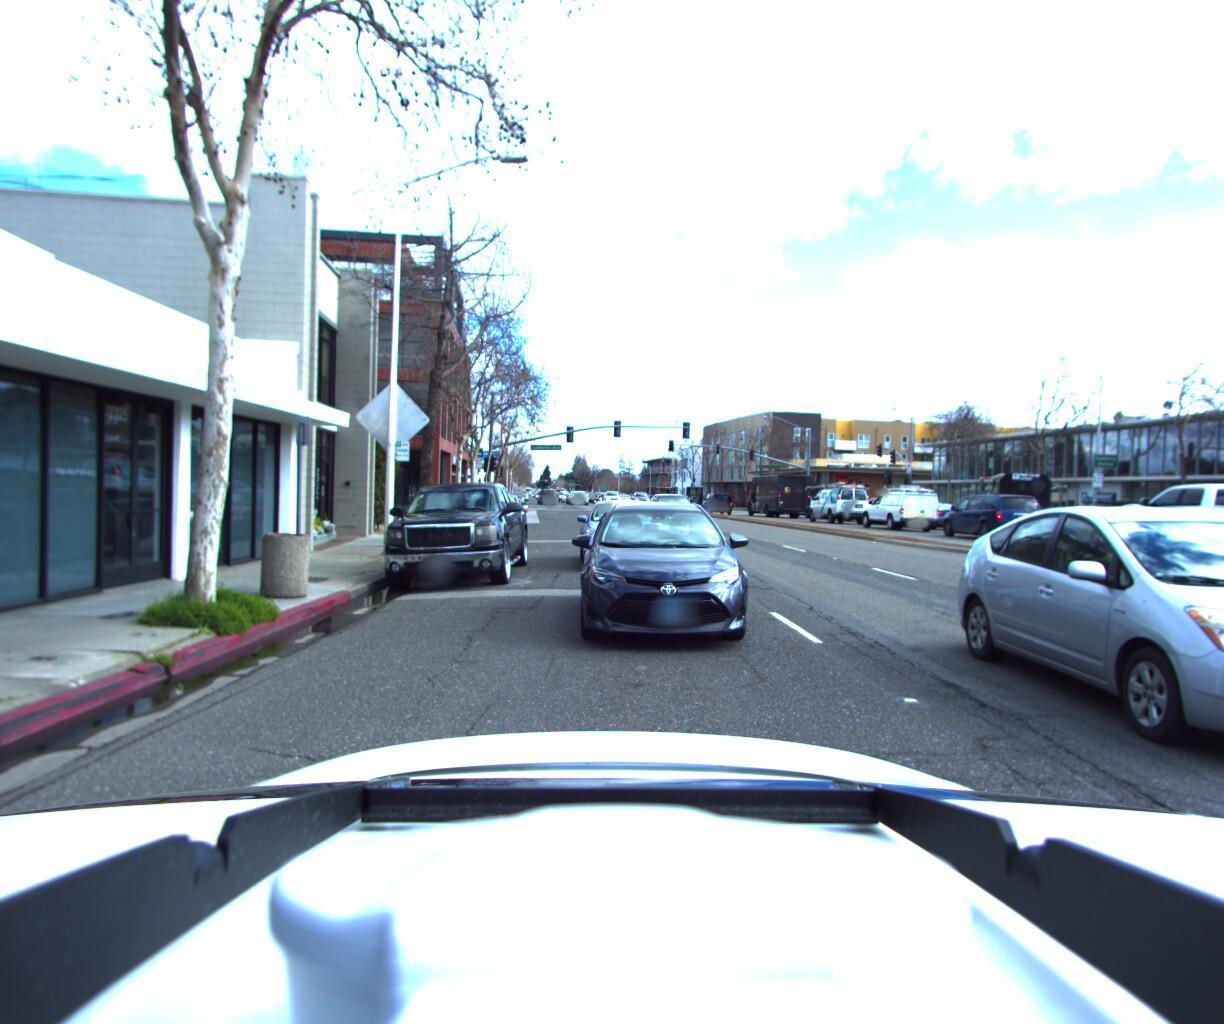car: (951, 493, 1224, 832), (565, 496, 762, 672), (367, 475, 531, 602), (1096, 480, 1224, 585), (582, 496, 673, 581), (938, 494, 1053, 548), (862, 486, 944, 536), (804, 485, 871, 527), (645, 493, 703, 533), (697, 493, 737, 516)
truck: (954, 469, 1136, 547), (741, 477, 816, 523)
